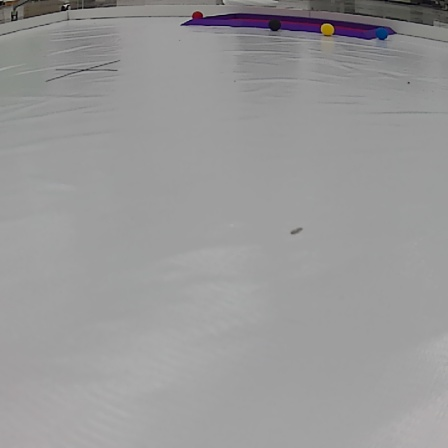black: (269, 16, 282, 32)
blue: (375, 28, 388, 39)
red: (192, 11, 205, 20)
red_aim: (176, 7, 397, 46)
yellow: (318, 23, 336, 36)
